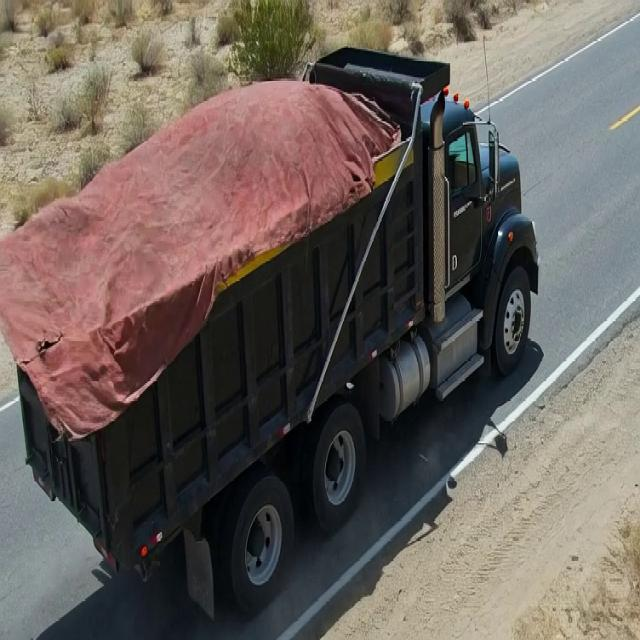trailer: (14, 67, 457, 399)
truck: (9, 44, 537, 577)
